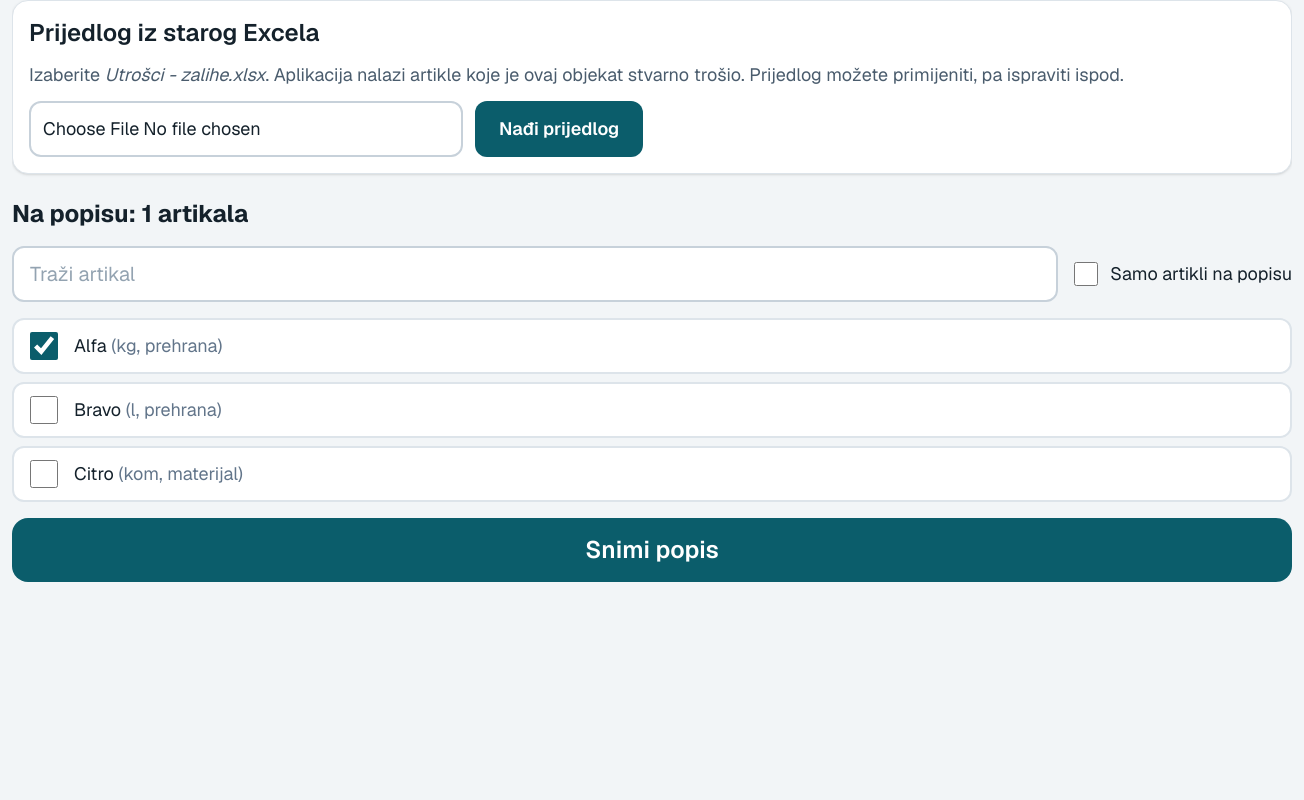
Scenario: popis artikala objekta › prijedlog se može i dodati na postojeći popis
Click the button "Nađi prijedlog": click(559, 129) x1=475 y1=101 x2=643 y2=157
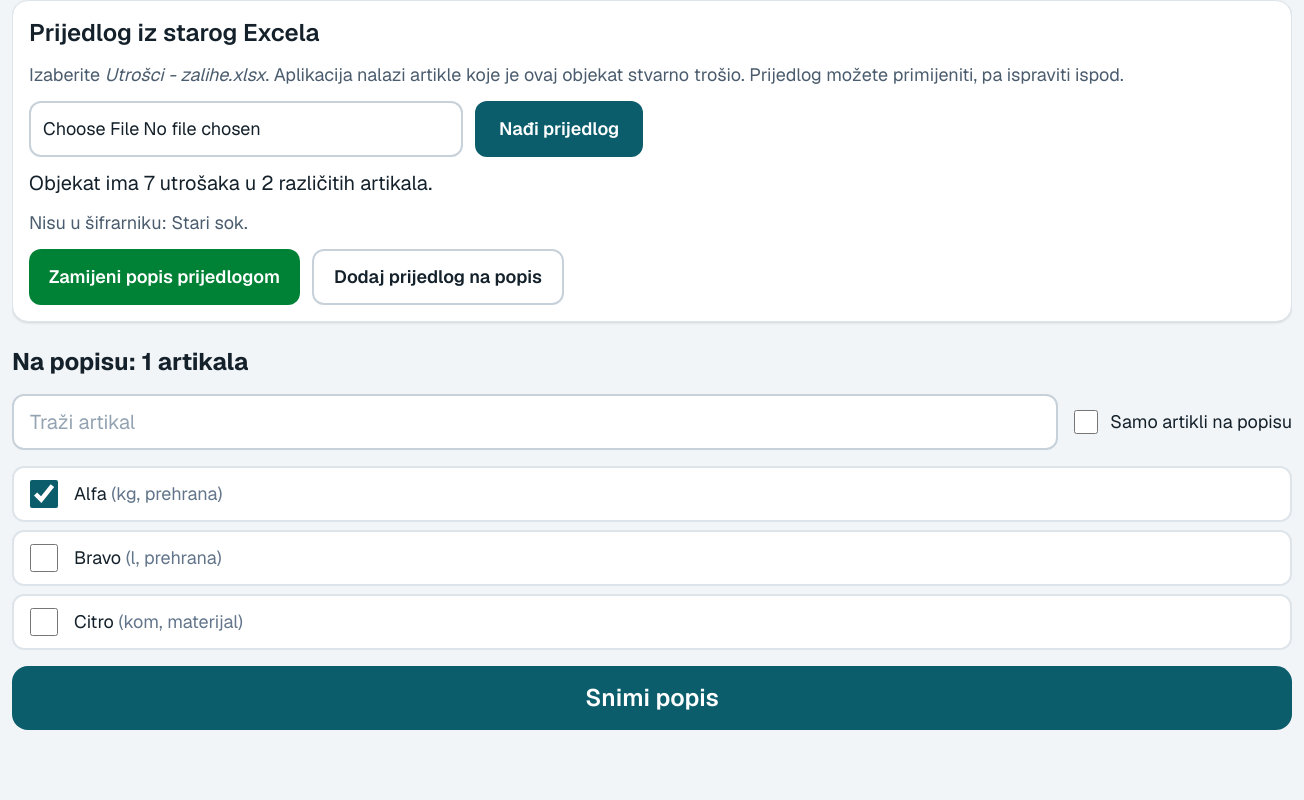
Click the button "Dodaj prijedlog na popis": click(438, 277) x1=312 y1=249 x2=564 y2=305
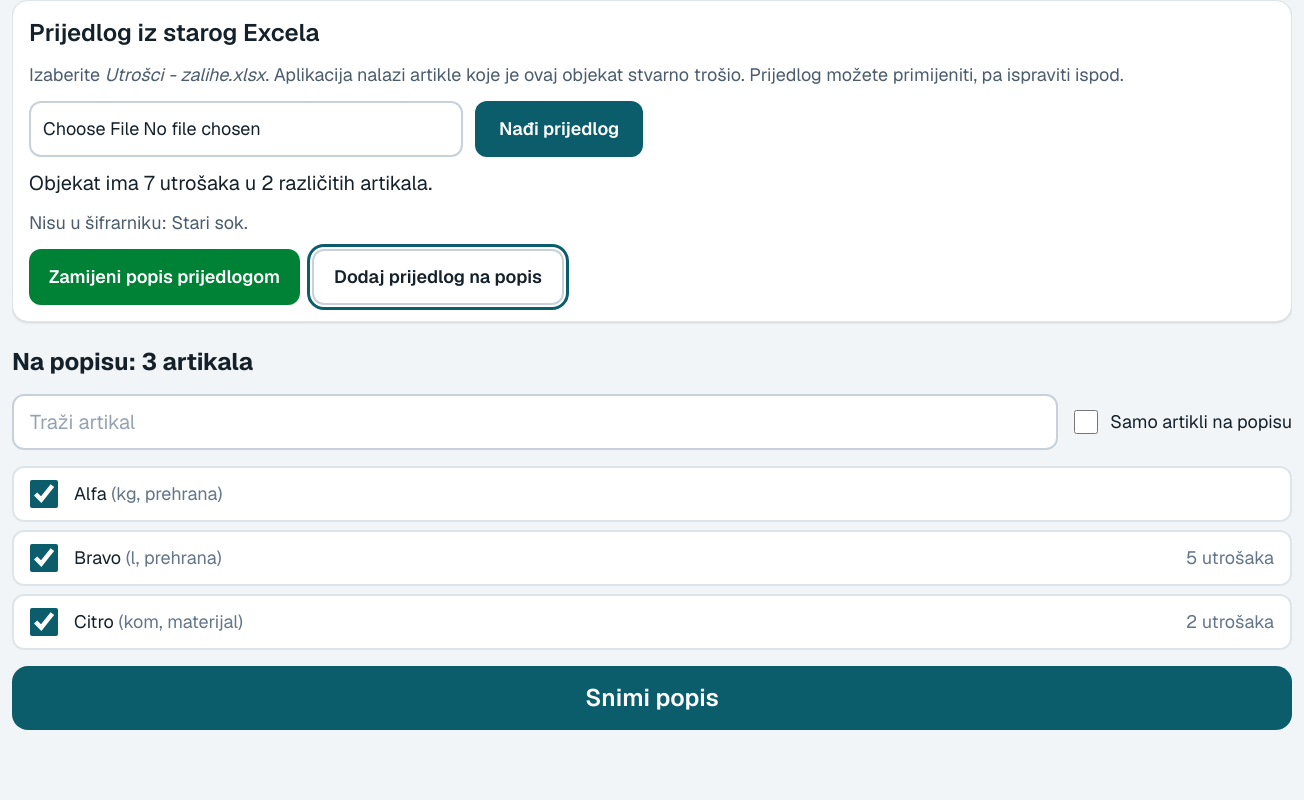
Expected: the text "Na popisu: 3 artikala" is shown, x1=12 y1=346 x2=253 y2=377
